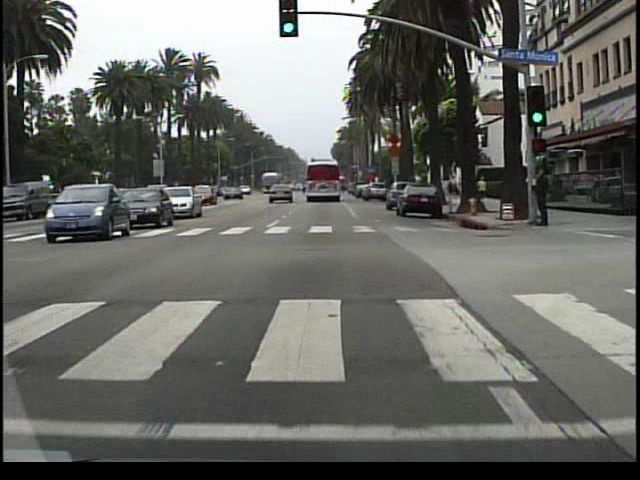person: (530, 161, 550, 229)
